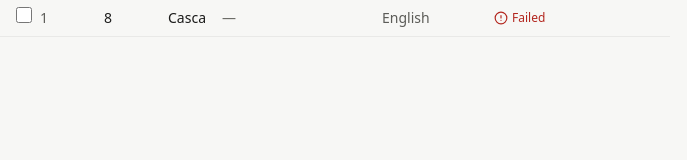
Test: chapter row failure tooltip › shows the error in a collision-aware tooltip, not a native title
Hover over the text "Failed" at [520, 18], box [494,10,545,26]
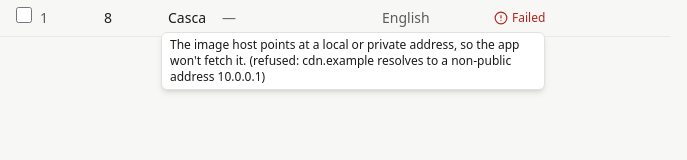
Now the tooltip shows "refused: cdn.example resolves to a non-public address 10.0.0.1", box [170,36,520,85]
Now the tooltip shows "so the app won't fetch it", box [170,36,520,85]
